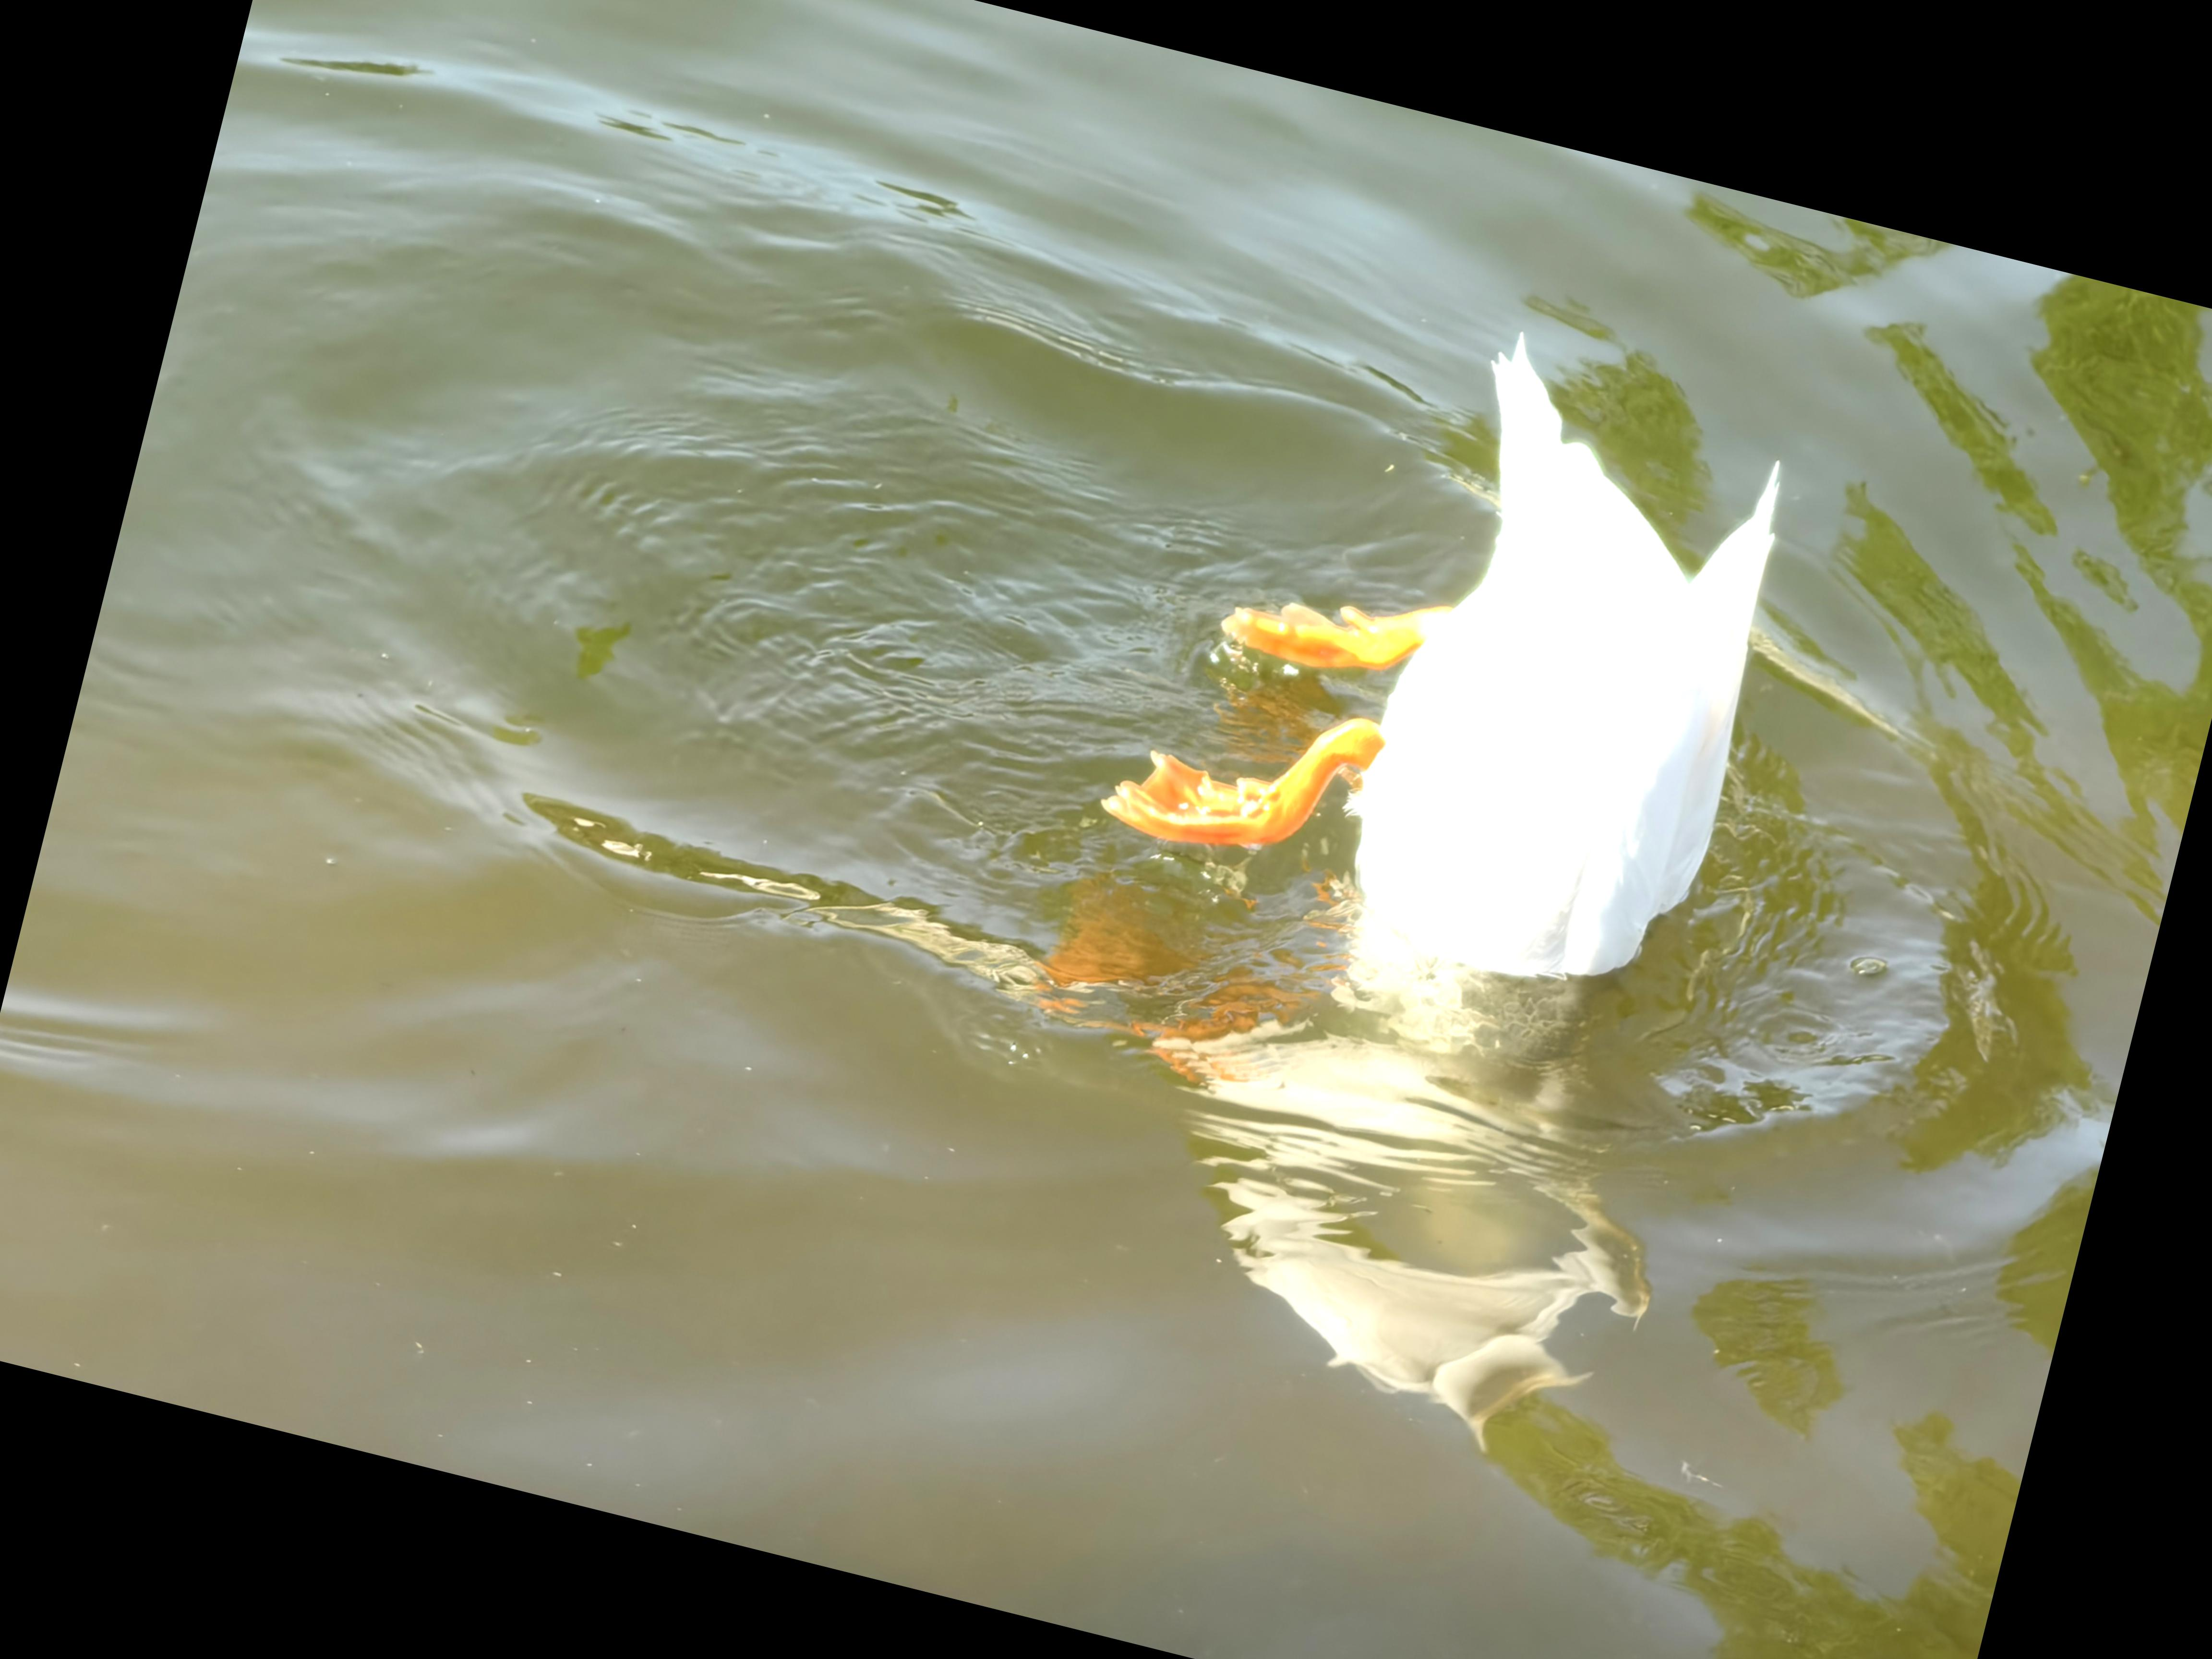duck: (1099, 251, 1848, 1042)
